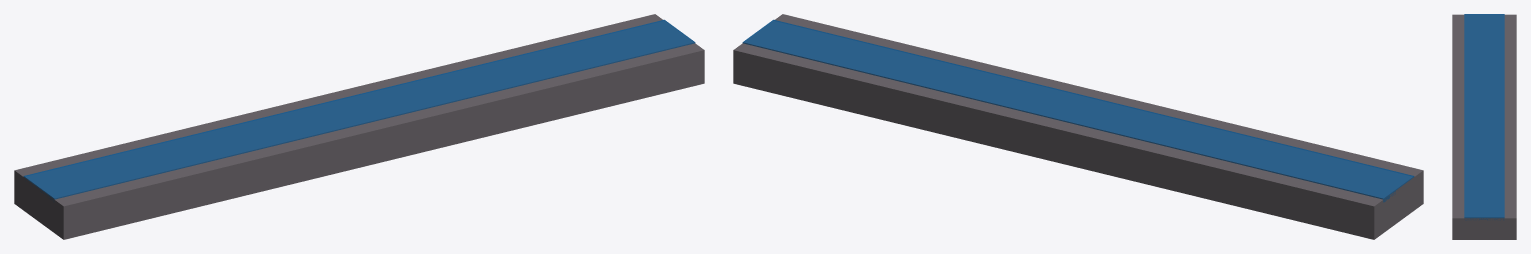
Rendered from Prop_OR_Channel_01.glb.
3 renders of one model, left to right at view 1: azimuth 30°, elevation 25°; view 2: azimuth 150°, elevation 25°; view 3: azimuth 270°, elevation 25°, orthographic. The views are drawn at different scales.
Visible parts, largest first — view 1: Prop_OR_Channel_01; view 2: Prop_OR_Channel_01; view 3: Prop_OR_Channel_01.
Part boxes in pixels (bbox=[...]): Prop_OR_Channel_01: bbox=[14, 14, 704, 239]; Prop_OR_Channel_01: bbox=[733, 14, 1423, 239]; Prop_OR_Channel_01: bbox=[1452, 14, 1516, 239].
Bounding box in the file's own units: 6 × 0.31 × 0.8.
